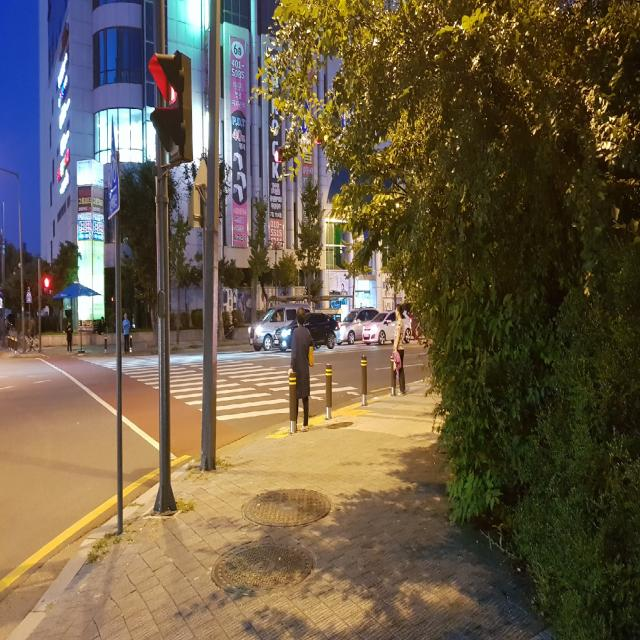빨간불: (150, 58, 193, 169)
횡단보도: (76, 354, 360, 423)
